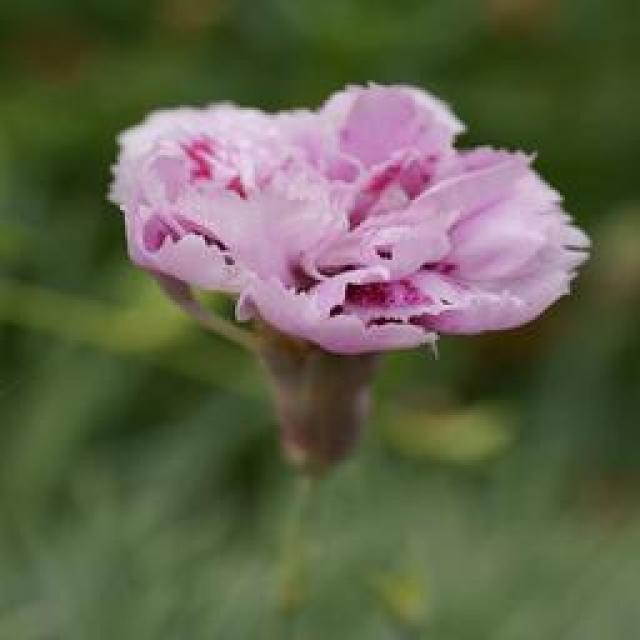carnation: (98, 60, 591, 448)
